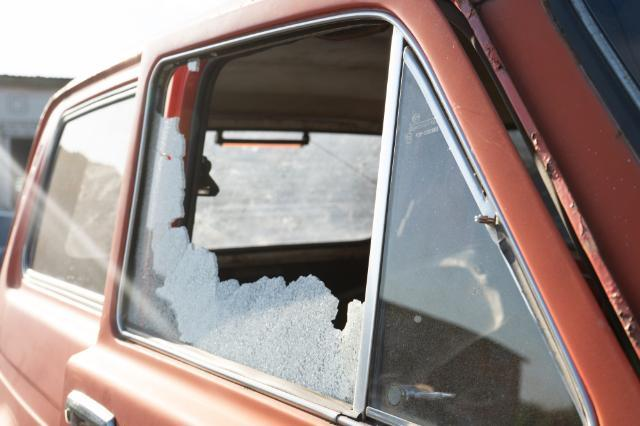glass shatter: (123, 17, 394, 405)
